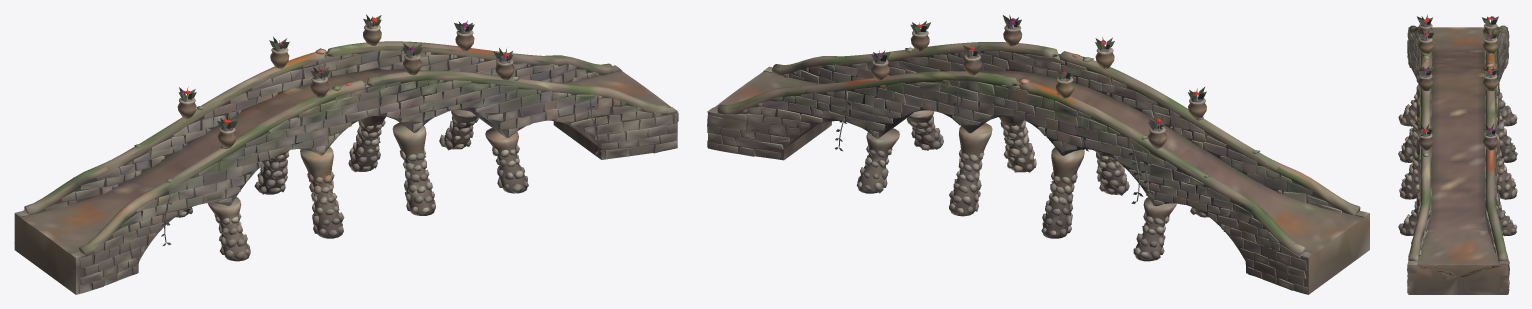
The model's file is kopru_gaudi_viyaduk.glb.
3 views of the same model, side by side, from view 1: azimuth 30°, elevation 25°; view 2: azimuth 150°, elevation 25°; view 3: azimuth 270°, elevation 25° (orthographic). The views are drawn at different scales.
Parts seen in each view (by area): view 1: kopru_gaudi_viyaduk_LOD0; view 2: kopru_gaudi_viyaduk_LOD0; view 3: kopru_gaudi_viyaduk_LOD0.
Part boxes in pixels (<box>): kopru_gaudi_viyaduk_LOD0: <box>14,14,678,294</box>; kopru_gaudi_viyaduk_LOD0: <box>707,15,1369,294</box>; kopru_gaudi_viyaduk_LOD0: <box>1398,14,1517,294</box>.
Size of what is drawn, in the model's own units: 26.02 by 6.55 by 5.54.
